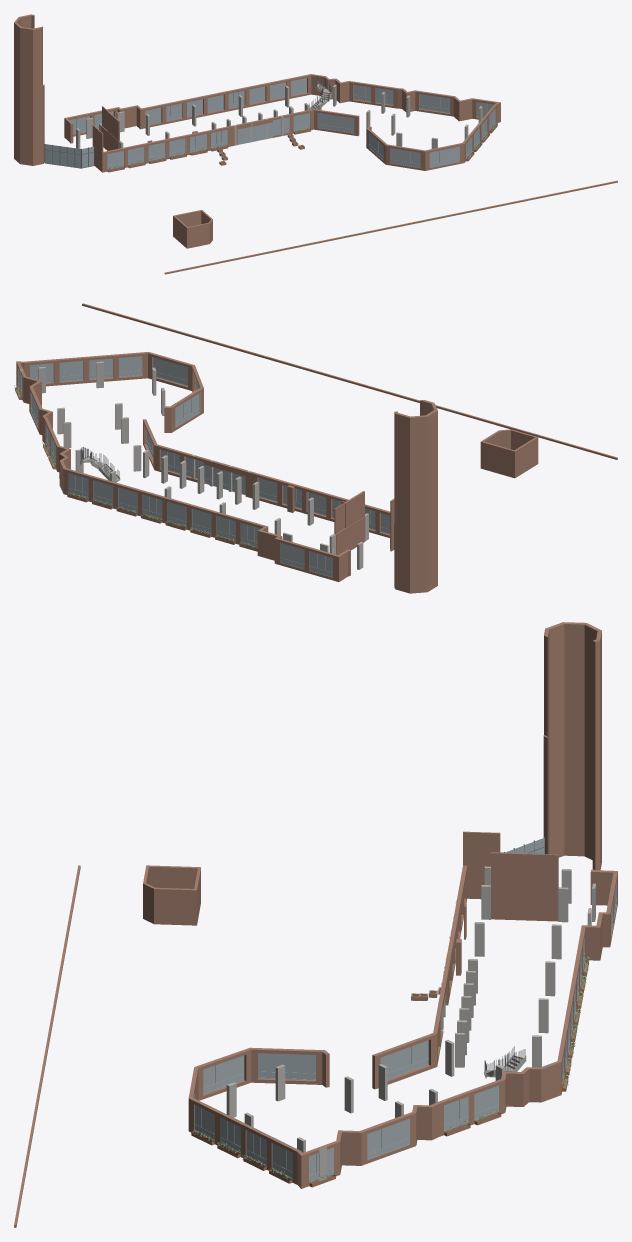
The model's file is revit_nivel_0.glb.
3 renders of one model, top to bottom at view 1: azimuth 30°, elevation 25°; view 2: azimuth 150°, elevation 25°; view 3: azimuth 270°, elevation 25°, orthographic. The views are drawn at different scales.
Parts seen in each view (by area): view 1: Revit_PISO 1; view 2: Revit_PISO 1; view 3: Revit_PISO 1.
Boxes of the visible parts, x1,y1,x2,y2 form: Revit_PISO 1: (14, 14, 617, 274); Revit_PISO 1: (14, 303, 617, 593); Revit_PISO 1: (14, 622, 617, 1227).
Bounding box in the file's own units: 70.41 × 22.16 × 49.6.
